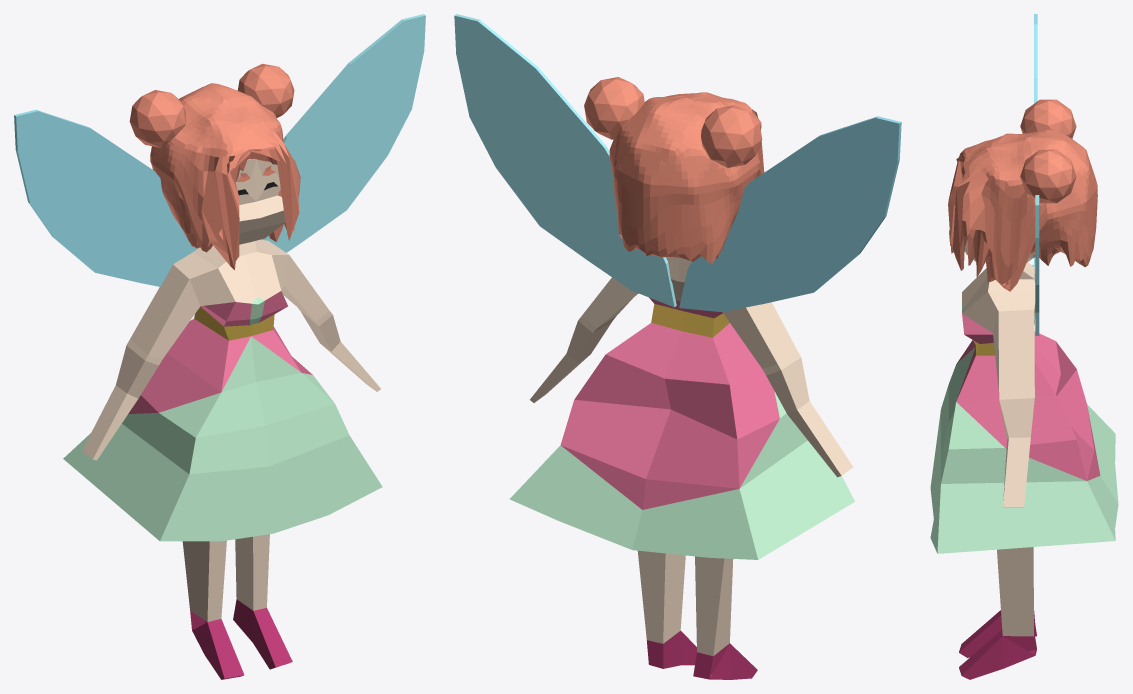
Rendered from fairy.fbx.
The picture shows the model from 3 angles, left to right: view 1: azimuth 30°, elevation 25°; view 2: azimuth 150°, elevation 25°; view 3: azimuth 270°, elevation 25°; orthographic projection. The views are drawn at different scales.
Parts seen in each view (by area): view 1: Fairy; view 2: Fairy; view 3: Fairy.
Boxes of the visible parts, x1=… form: Fairy: x1=14, y1=14, x2=425, y2=679; Fairy: x1=454, y1=14, x2=901, y2=679; Fairy: x1=930, y1=14, x2=1118, y2=679.
Bounding box in the file's own units: 22.24 × 30.09 × 9.23.
